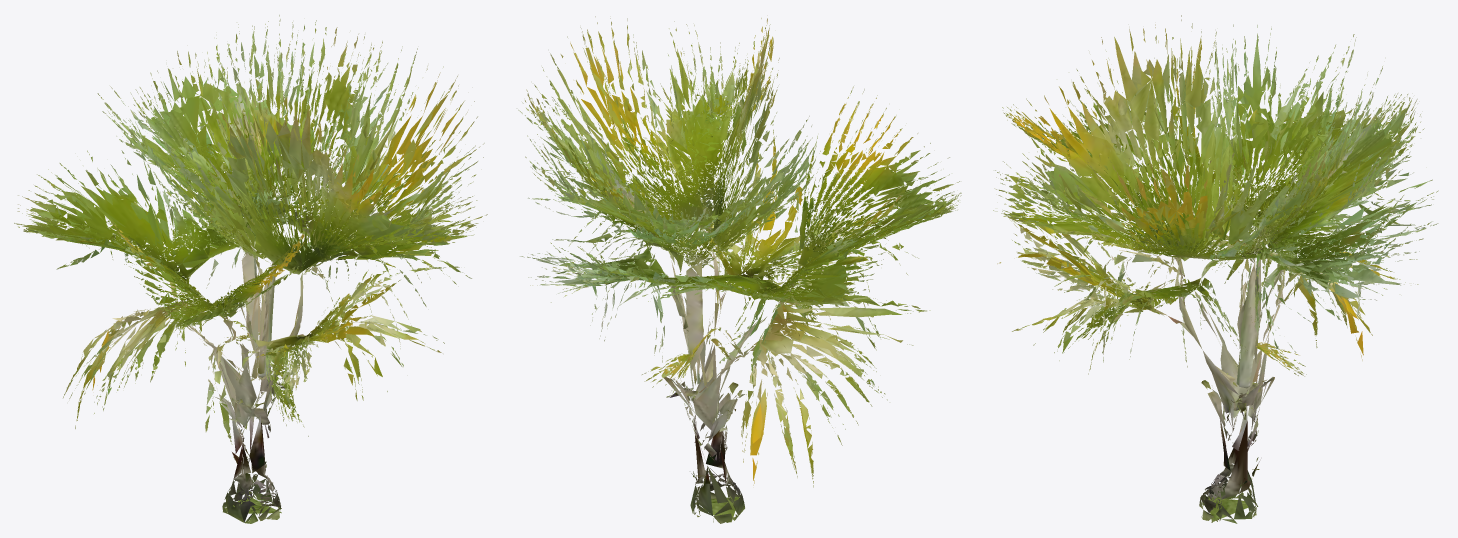
The model's file is fan-palm.glb.
The picture shows the model from 3 angles, left to right: view 1: azimuth 30°, elevation 25°; view 2: azimuth 150°, elevation 25°; view 3: azimuth 270°, elevation 25°; orthographic projection. The views are drawn at different scales.
Visible parts, largest first — view 1: mesh_node; view 2: mesh_node; view 3: mesh_node.
Boxes of the visible parts, bbox=[...] form: mesh_node: bbox=[14, 15, 487, 523]; mesh_node: bbox=[518, 16, 961, 523]; mesh_node: bbox=[993, 15, 1438, 523].
Size of the model in its own units: 5.23 by 5.99 by 5.04.
Materials: 1 (1 with a texture image).
